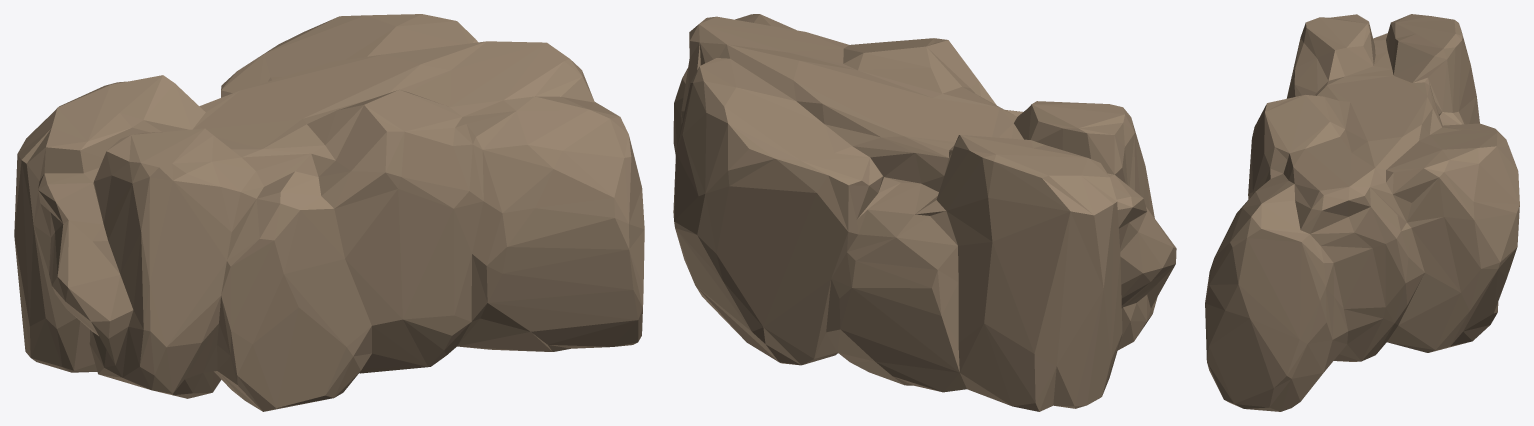
File: SM_Env_Cliff_01.fbx
The picture shows the model from 3 angles, left to right: view 1: azimuth 30°, elevation 25°; view 2: azimuth 150°, elevation 25°; view 3: azimuth 270°, elevation 25°; orthographic projection. The views are drawn at different scales.
Parts seen in each view (by area): view 1: SM_Env_Cliff_01; view 2: SM_Env_Cliff_01; view 3: SM_Env_Cliff_01.
Part boxes in pixels (x1=…): SM_Env_Cliff_01: x1=14, y1=14, x2=644, y2=411; SM_Env_Cliff_01: x1=673, y1=14, x2=1176, y2=411; SM_Env_Cliff_01: x1=1205, y1=14, x2=1519, y2=411.
Size of the model in its own units: 2607 by 1225 by 1569.
